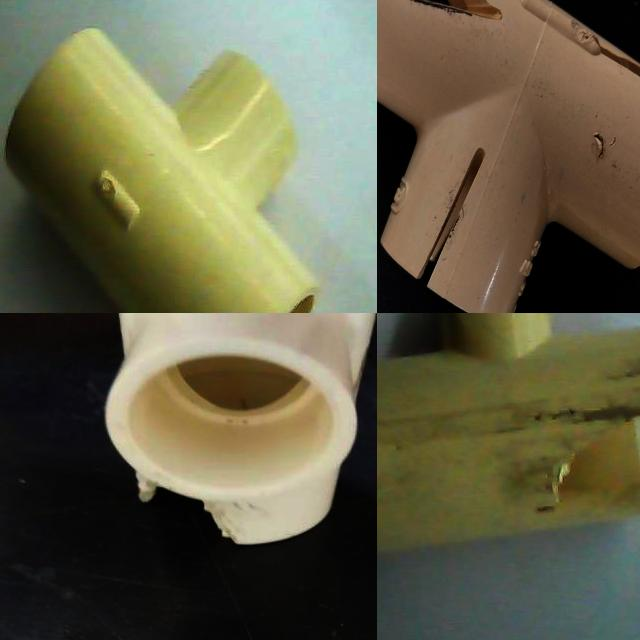Defective: (549, 393, 640, 511), (124, 484, 289, 548), (387, 290, 497, 313)
T Joint: (3, 28, 319, 313), (93, 313, 377, 554), (377, 313, 640, 557), (377, 0, 504, 313), (618, 79, 640, 264)
